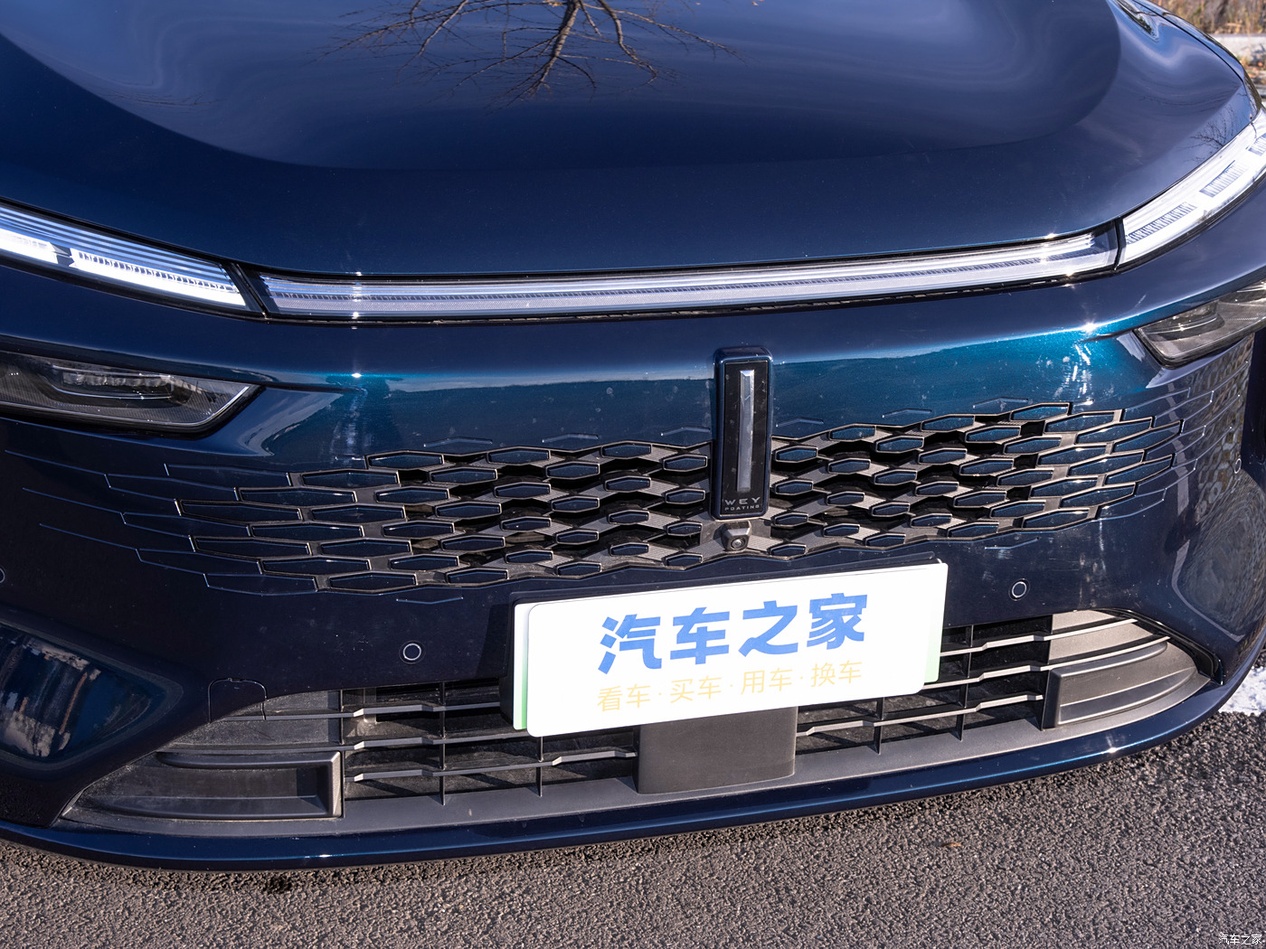WEY: (723, 362, 768, 515)
